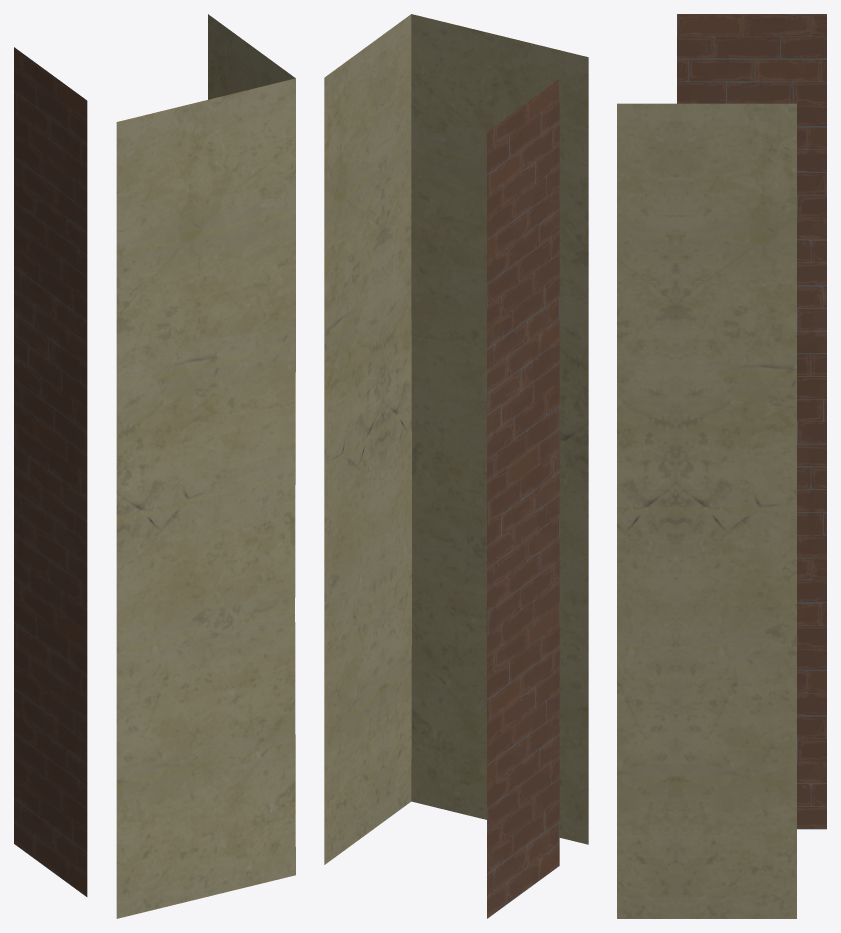
The model's file is Marble_90Angle_L.gltf.
3 renders of one model, left to right at view 1: azimuth 30°, elevation 25°; view 2: azimuth 150°, elevation 25°; view 3: azimuth 270°, elevation 25°, orthographic. The views are drawn at different scales.
Visible parts, largest first — view 1: Marble_90Angle_L; view 2: Marble_90Angle_L; view 3: Marble_90Angle_L.
Part boxes in pixels (bbox=[...]): Marble_90Angle_L: bbox=[14, 14, 295, 918]; Marble_90Angle_L: bbox=[324, 14, 588, 918]; Marble_90Angle_L: bbox=[617, 14, 826, 918].
Bounding box in the file's own units: 0.7062 × 3 × 0.7.
Materials: 2 (2 with a texture image).
